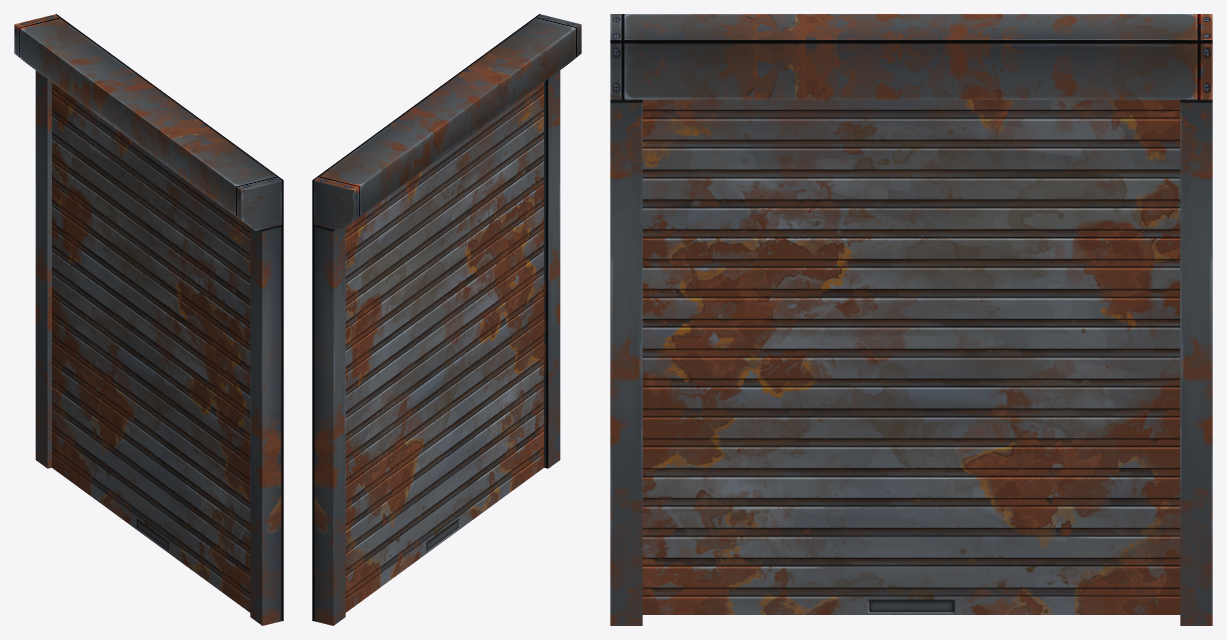
File: rollerShutter01_3m.fbx
The picture shows the model from 3 angles, left to right: view 1: azimuth 30°, elevation 25°; view 2: azimuth 150°, elevation 25°; view 3: azimuth 270°, elevation 25°; orthographic projection. The views are drawn at different scales.
Parts seen in each view (by area): view 1: rollerShutter01_3m; view 2: rollerShutter01_3m; view 3: rollerShutter01_3m.
Part boxes in pixels (bbox=[...]): rollerShutter01_3m: bbox=[14, 14, 283, 625]; rollerShutter01_3m: bbox=[312, 14, 581, 625]; rollerShutter01_3m: bbox=[610, 14, 1212, 625].
Bounding box in the file's own units: 30 × 300 × 280.
